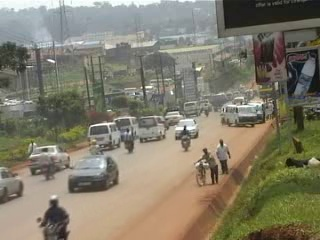Car: (67, 152, 121, 191), (24, 141, 71, 175), (0, 161, 28, 204), (136, 112, 167, 141), (174, 115, 200, 140), (164, 108, 182, 125)
Motorcycle: (33, 192, 74, 239), (38, 146, 57, 181), (176, 121, 192, 152), (87, 138, 107, 157), (122, 127, 136, 154), (202, 98, 211, 120)
